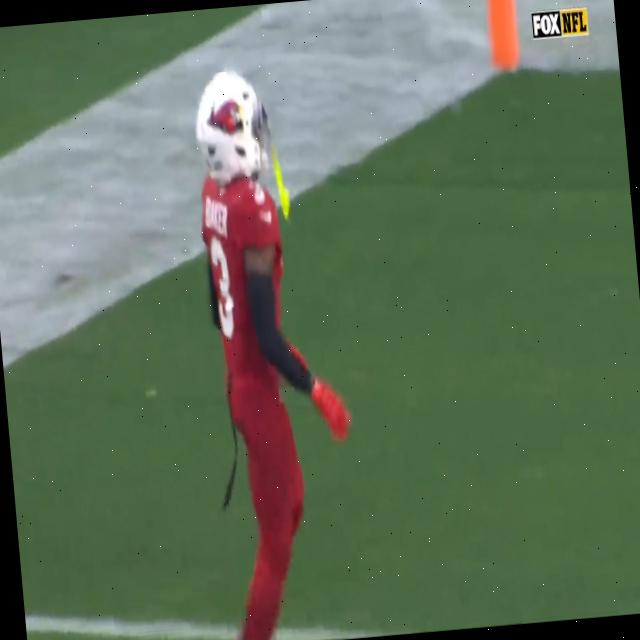Player: (186, 61, 326, 640)
